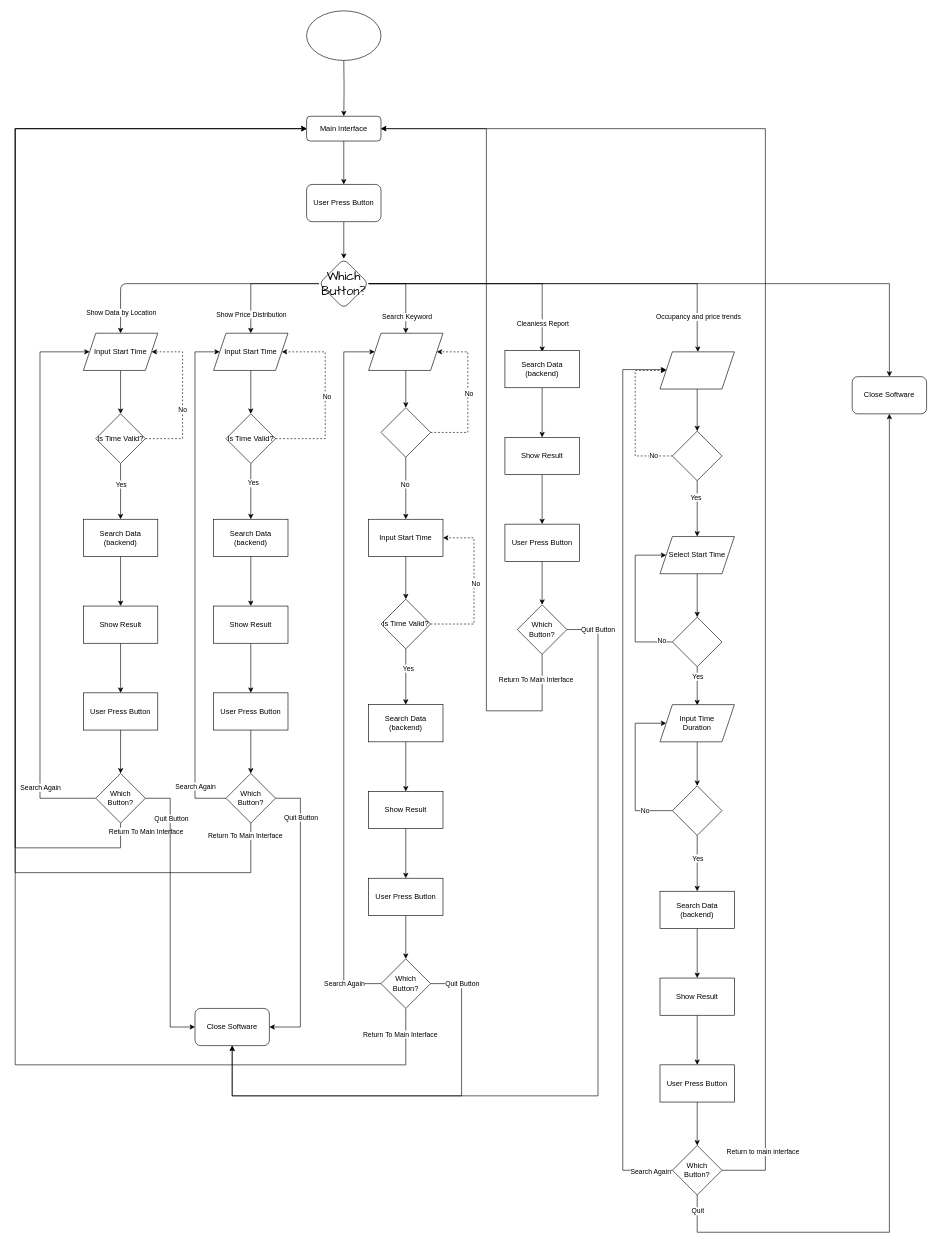
The diagram is 937 pixels wide and 1248 high, and some of its shapes have lost their labels. Here are the shapes that lost their labels. From the top down, the centre of each, then its label:
At (x=343, y=35): "Start".
At (x=405, y=351): "Input Keyword".
At (x=696, y=370): "Tick Selected Surburb".
At (x=405, y=432): "Is Input Empty?".
At (x=697, y=456): "Is Anything Ticked?".
At (x=697, y=642): "Is Start Time Valid?".
At (x=697, y=810): "Is valid input?".
